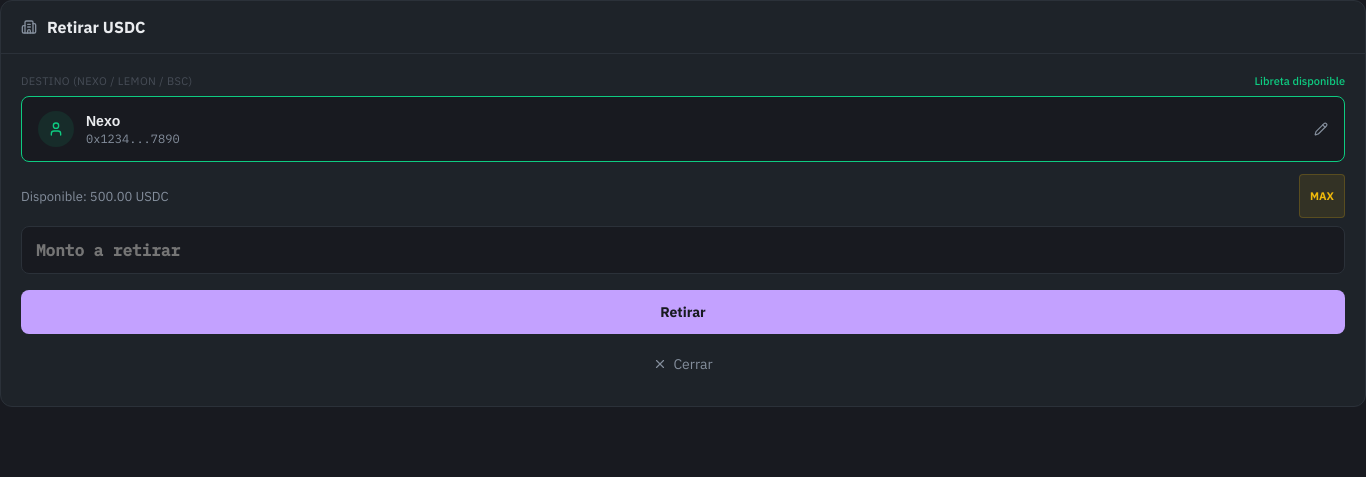
it: Withdraw Component › handleWithdraw — validaciones › tipear en el input limpia el errorMsg previo
The image size is (1366, 477).
Type "9999" into the number field with placeholder "Monto a retirar" at (683, 250), box x1=21 y1=226 x2=1345 y2=274
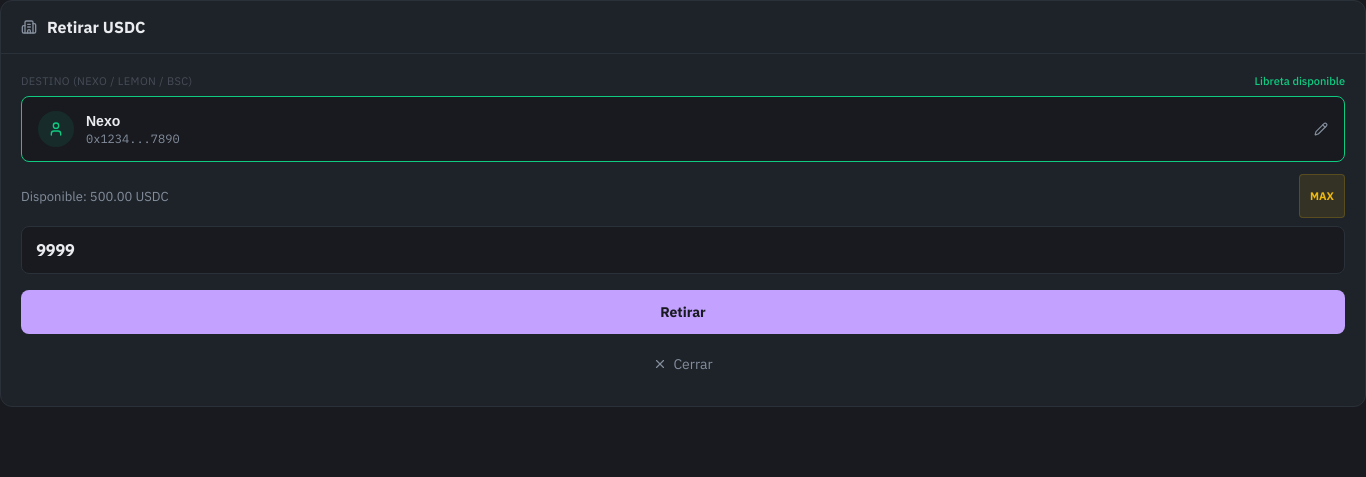
Click the button "Retirar" at (683, 312), box x1=21 y1=290 x2=1345 y2=334
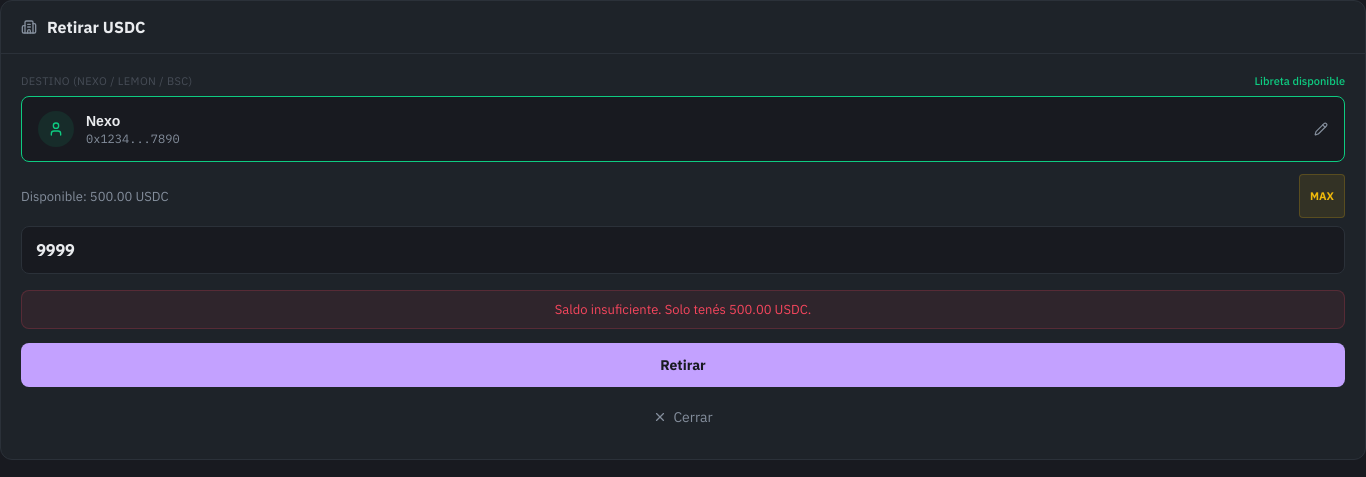
Expected: the text "Saldo insuficiente. Solo tenés 500.00 USDC." is shown, x1=21 y1=290 x2=1345 y2=329
Replace the text in the number field with placeholder "Monto a retirar" with "100" at (683, 250), box x1=21 y1=226 x2=1345 y2=274
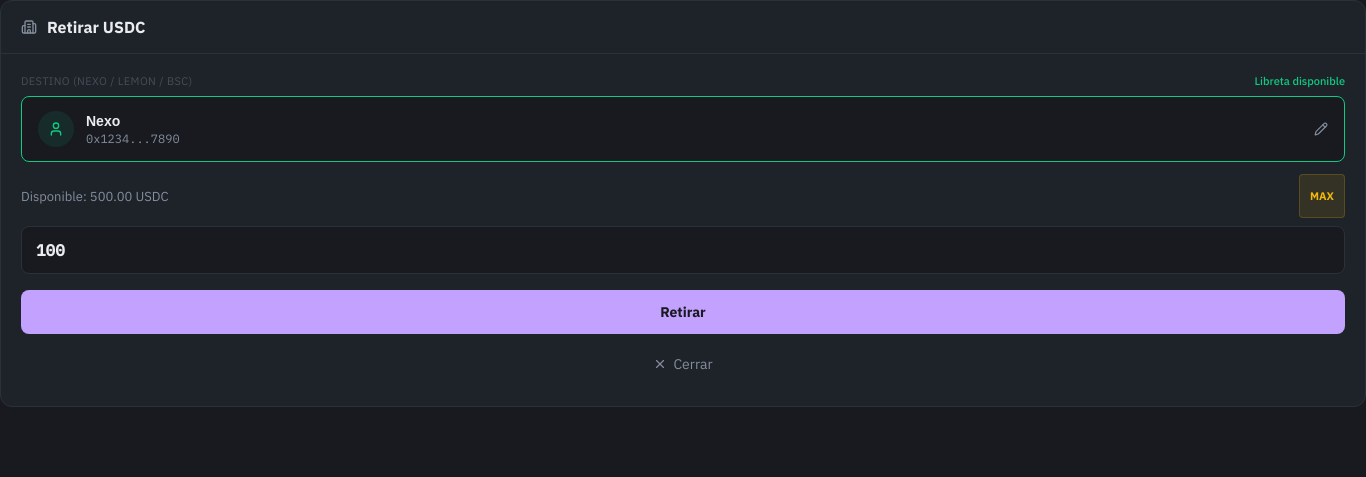
Expected: the text "Saldo insuficiente" is gone
